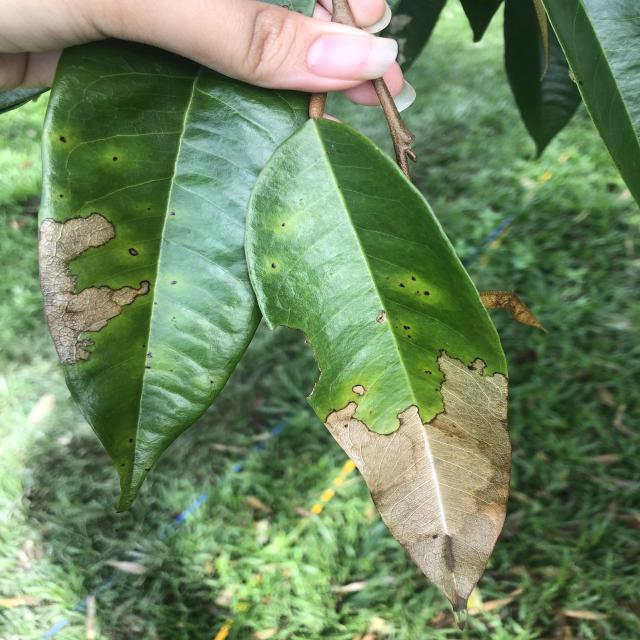Leaf Blight: (220, 368, 624, 608), (4, 151, 150, 386)
